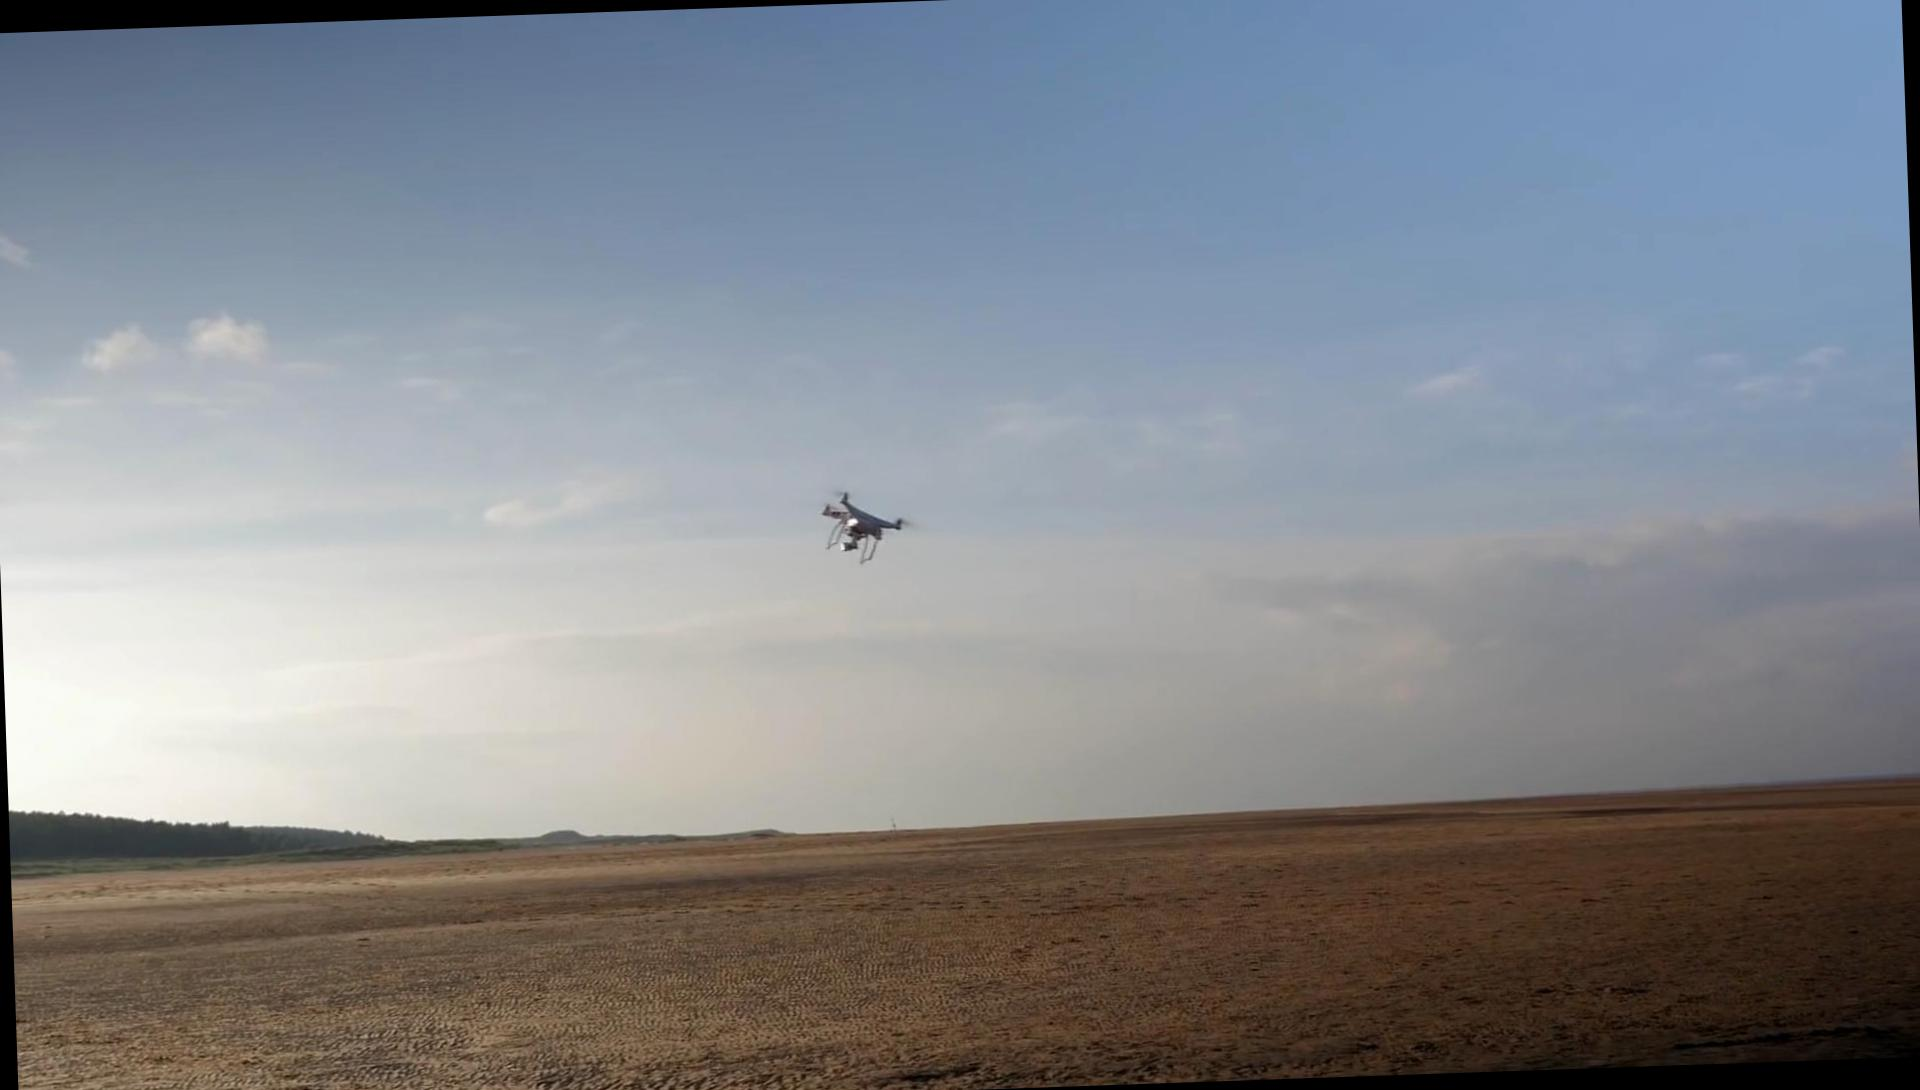drone: (811, 480, 911, 565)
